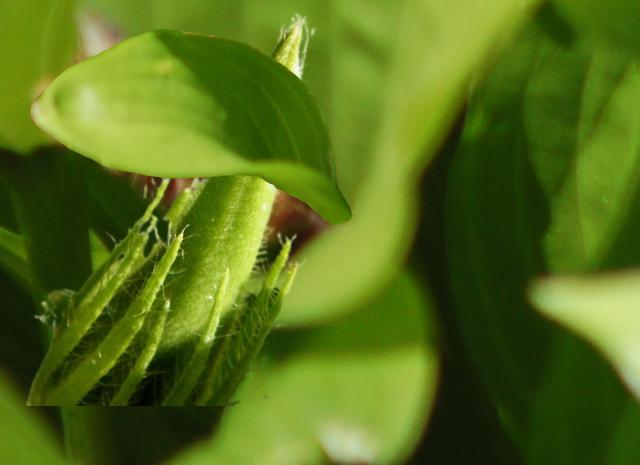okra: (21, 11, 315, 404)
